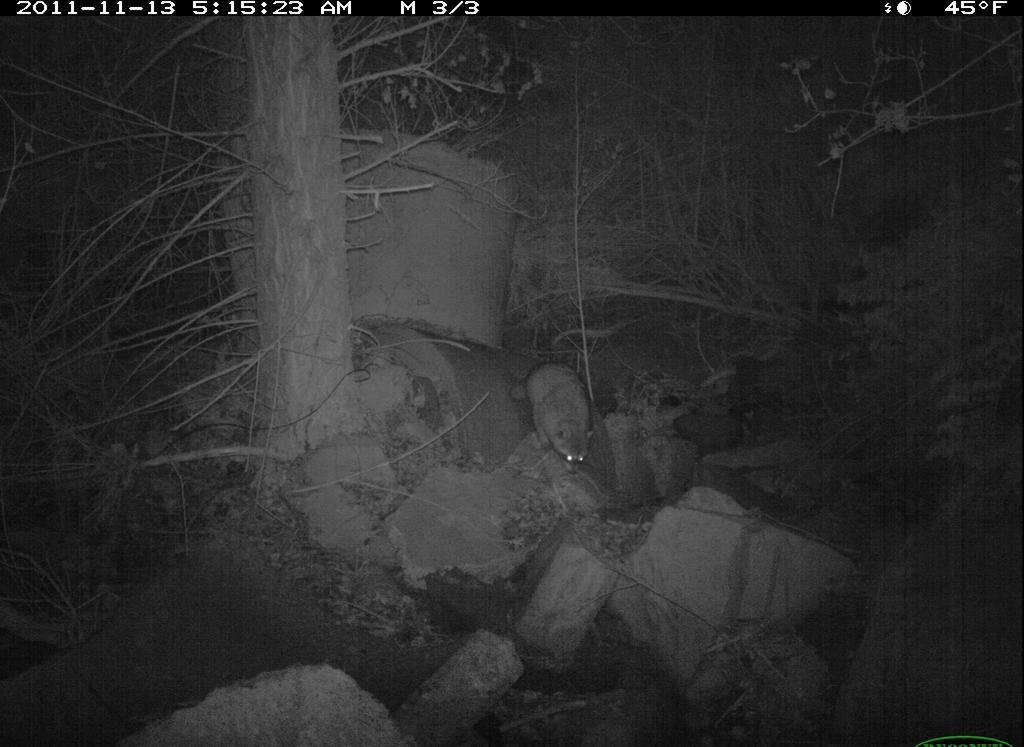raccoon: (509, 347, 600, 478)
